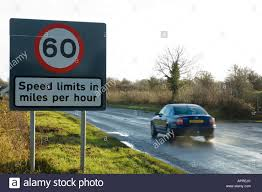Speed_limit_60km: (34, 23, 83, 72)
